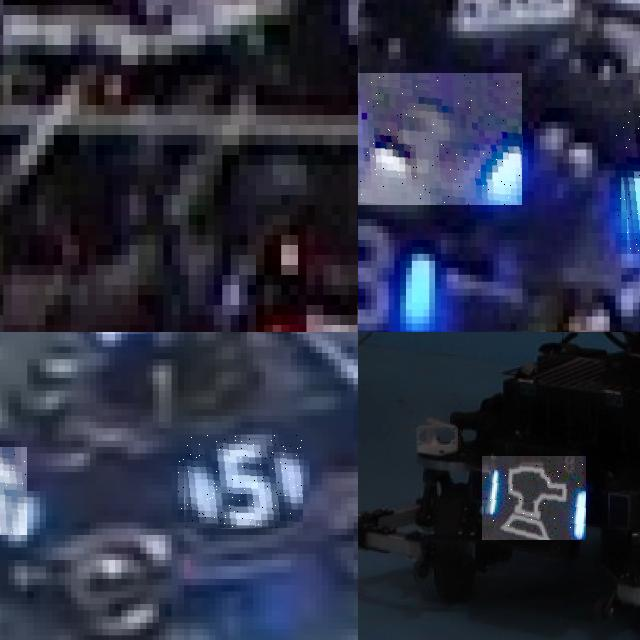B3: (358, 73, 522, 205), (358, 212, 435, 332), (615, 108, 640, 254)
B5: (178, 434, 303, 528), (0, 447, 27, 535)
Bs: (482, 456, 586, 540)
